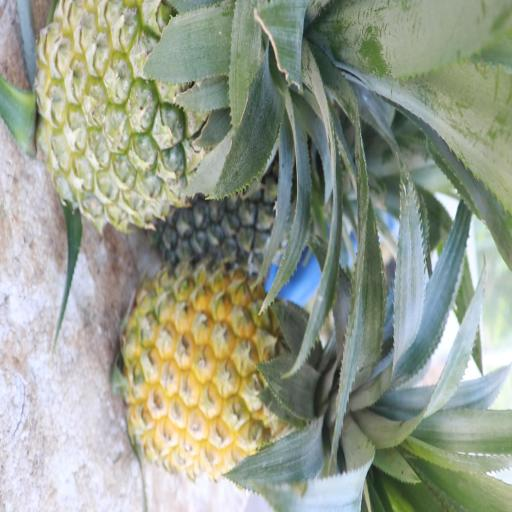------------------------------: (37, 0, 295, 227)
Pineapple - v8 v1: (129, 261, 358, 483)
